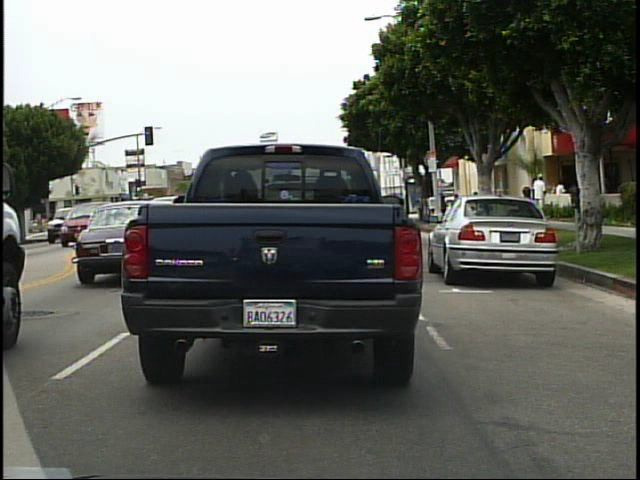person: (529, 172, 553, 223), (550, 176, 572, 222)
